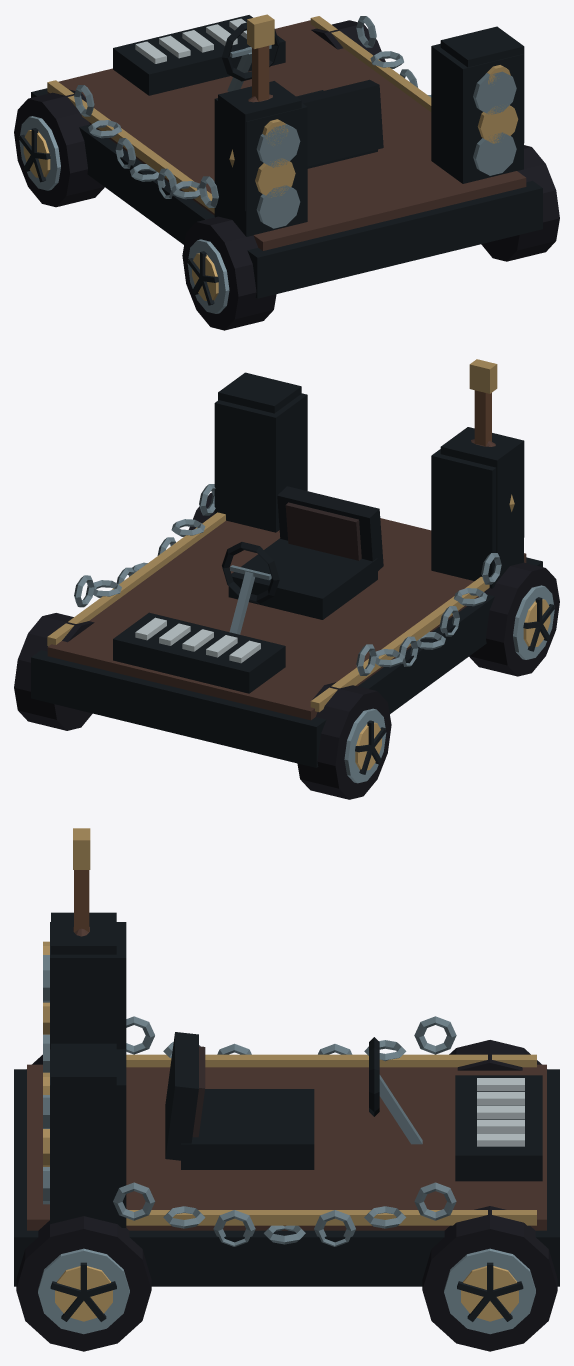
The model's file is kart.glb.
3 views of the same model, one above another, from view 1: azimuth 30°, elevation 25°; view 2: azimuth 150°, elevation 25°; view 3: azimuth 270°, elevation 25° (orthographic). The views are drawn at different scales.
Visible parts, largest first — view 1: identity-stage-stage-platform-and-pa-towers, identity-stage-motif-speakers, wheel-rear-left, wheel-front-left, identity-stage-driver-cockpit, identity-stage-motif-chains, wheel-rear-right, identity-stage-motif-guitar, wheel-front-right; view 2: identity-stage-stage-platform-and-pa-towers, identity-stage-driver-cockpit, wheel-front-left, wheel-rear-left, identity-stage-motif-speakers, identity-stage-motif-chains, wheel-front-right, identity-stage-motif-guitar; view 3: identity-stage-stage-platform-and-pa-towers, identity-stage-driver-cockpit, wheel-front-right, wheel-rear-right, identity-stage-motif-speakers, identity-stage-motif-chains, identity-stage-motif-guitar, wheel-front-left.
Part boxes in pixels (x1,y1,x2,y2): identity-stage-stage-platform-and-pa-towers: (31,15,542,298); identity-stage-motif-speakers: (218,26,524,211); wheel-rear-left: (182,216,276,330); wheel-front-left: (14,89,104,207); identity-stage-driver-cockpit: (222,22,383,168); identity-stage-motif-chains: (74,16,431,207); wheel-rear-right: (481,145,559,261); identity-stage-motif-guitar: (229,14,274,167); wheel-front-right: (311,20,385,62); identity-stage-stage-platform-and-pa-towers: (31,393,542,767); identity-stage-driver-cockpit: (222,486,383,634); wheel-front-left: (297,682,391,799); wheel-rear-left: (469,562,559,676); identity-stage-motif-speakers: (218,372,524,555); identity-stage-motif-chains: (74,484,501,675); wheel-front-right: (14,613,94,730); identity-stage-motif-guitar: (469,359,514,511); identity-stage-stage-platform-and-pa-towers: (14,922,559,1286); identity-stage-driver-cockpit: (165,1032,422,1169); wheel-front-right: (422,1206,557,1351); wheel-rear-right: (16,1216,151,1351); identity-stage-motif-speakers: (43,912,116,1193); identity-stage-motif-chains: (113,1016,456,1246); identity-stage-motif-guitar: (73,828,90,936); wheel-front-left: (449,1040,541,1070).
Size of the model in its own units: 2.16 by 1.8 by 2.5.
